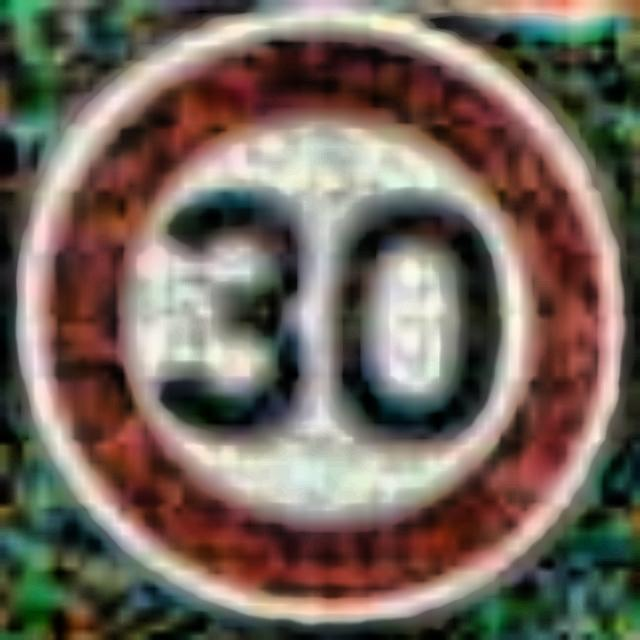speed_30: (36, 21, 616, 609)
